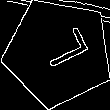L_SW: (29, 27, 88, 78)
